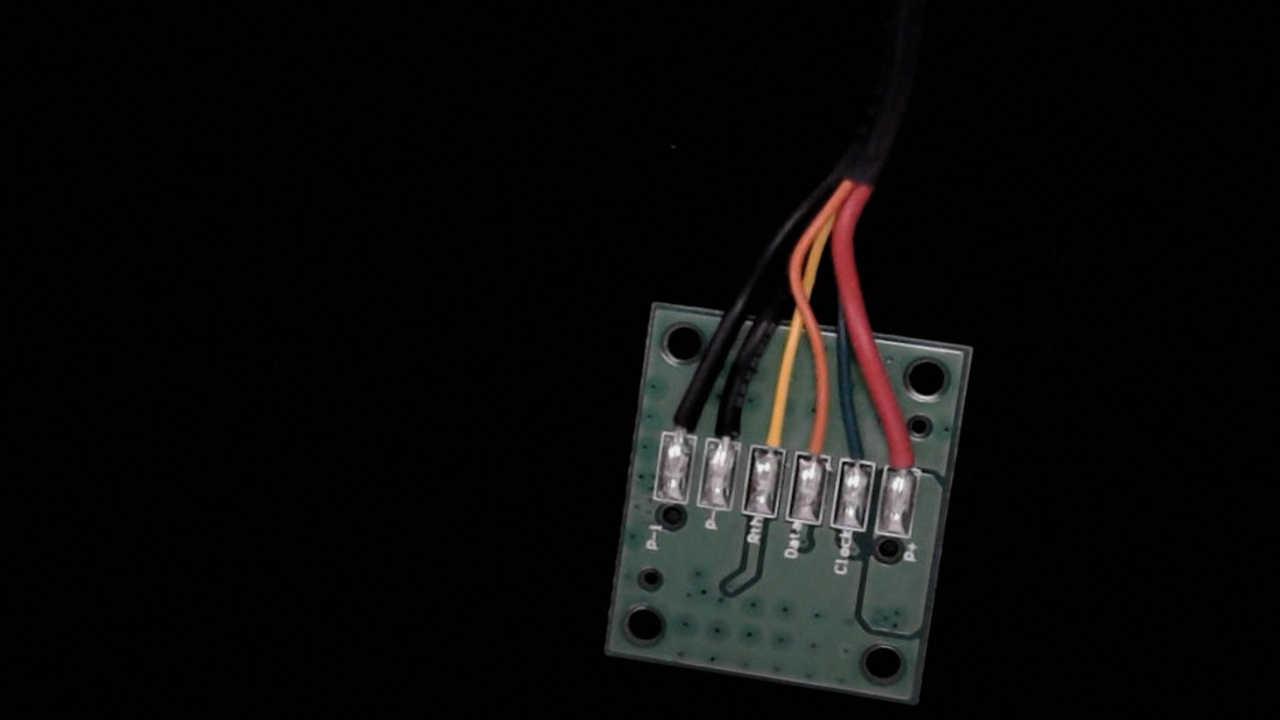Black: (702, 384, 754, 460)
Black1: (659, 386, 704, 452)
Green: (832, 415, 882, 483)
Orange: (792, 405, 841, 477)
Red: (880, 415, 931, 485)
Yellow: (750, 394, 797, 467)
